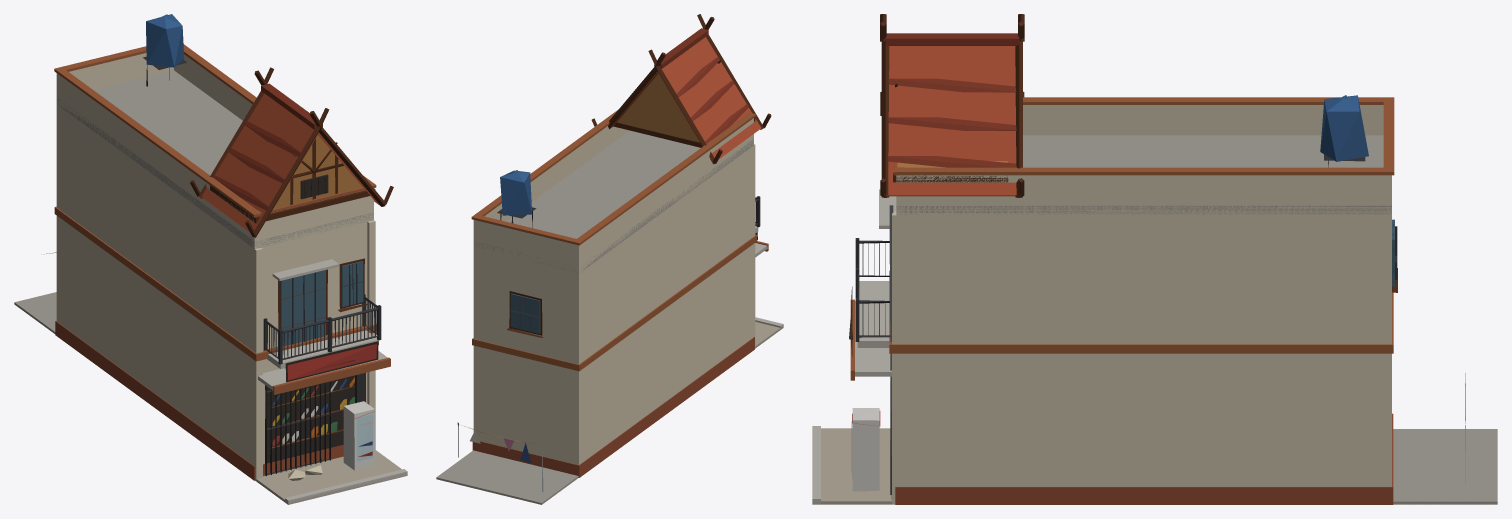
The model's file is bay1_mid2.glb.
The picture shows the model from 3 angles, left to right: view 1: azimuth 30°, elevation 25°; view 2: azimuth 150°, elevation 25°; view 3: azimuth 270°, elevation 25°; orthographic projection. The views are drawn at different scales.
Parts seen in each view (by area): view 1: body, windows; view 2: body, windows; view 3: body.
Part boxes in pixels (box(x1,y1,x2,y2)): body: box(14, 14, 407, 504); windows: box(265, 174, 363, 463); body: box(436, 14, 783, 504); windows: box(510, 293, 540, 333); body: box(812, 14, 1497, 504).
Size of the model in its own units: 4.98 by 11.54 by 15.9.
